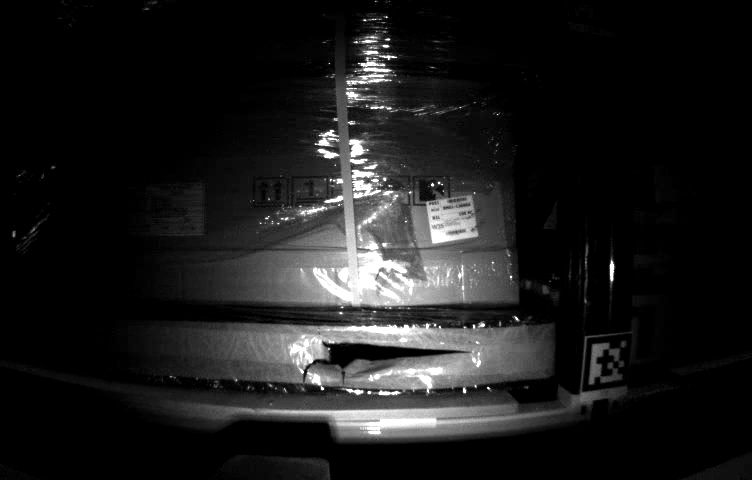True Barcode: (426, 193, 478, 242)
